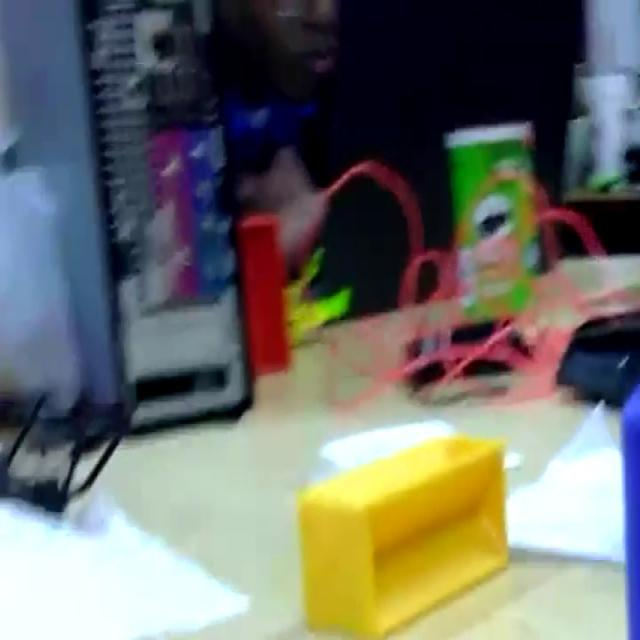red_block: (235, 210, 291, 378)
yellow_block: (296, 429, 510, 635)
